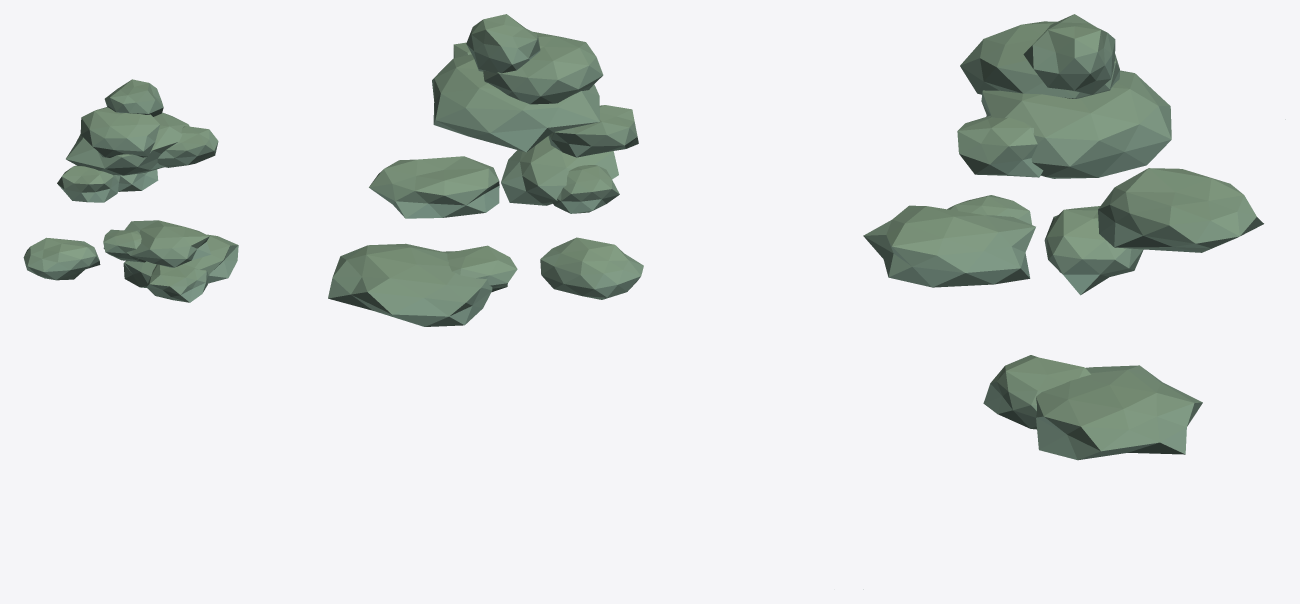
Rendered from ShorePine2_leaf.glb.
3 renders of one model, left to right at view 1: azimuth 30°, elevation 25°; view 2: azimuth 150°, elevation 25°; view 3: azimuth 270°, elevation 25°, orthographic. The views are drawn at different scales.
Parts seen in each view (by area): view 1: ShorePine2_leaf; view 2: ShorePine2_leaf; view 3: ShorePine2_leaf.
Boxes of the visible parts, x1,y1,x2,y2 form: ShorePine2_leaf: [23, 79, 238, 302]; ShorePine2_leaf: [328, 14, 643, 326]; ShorePine2_leaf: [863, 14, 1285, 589].
Bounding box in the file's own units: 15.11 × 20.45 × 10.93.
